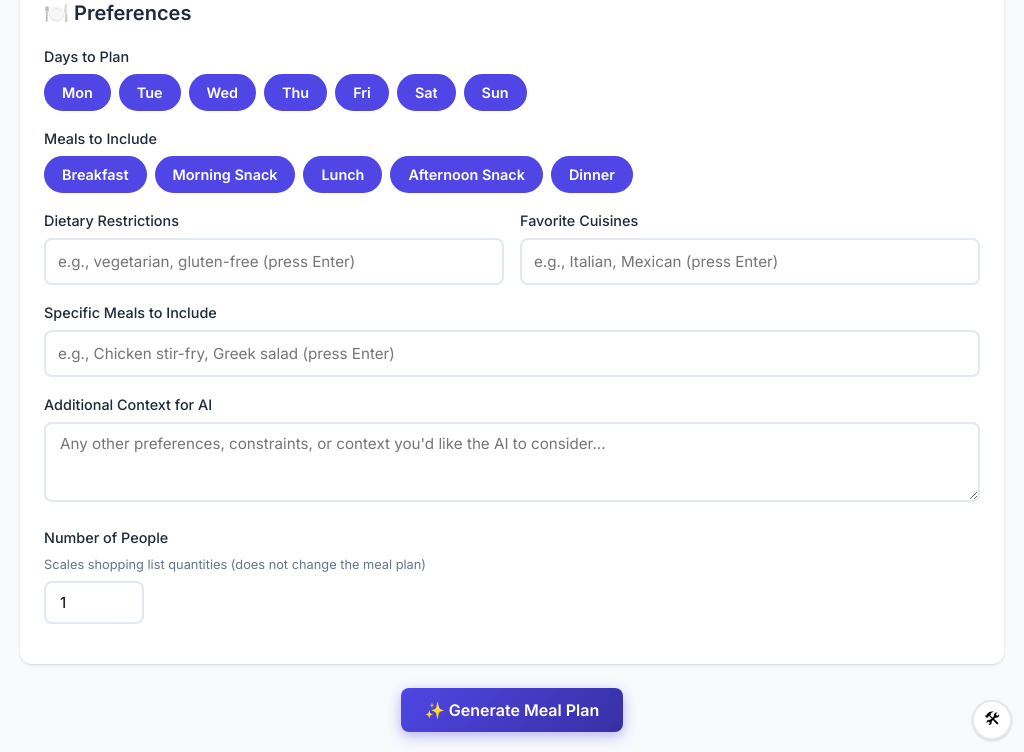
Test case: App › displays meal plan after successful generation
The image size is (1024, 752).
(page scrolled)
Step 1. Click the button "✨ Generate Meal Plan" → (512, 710), box 401,688 -> 623,732
(page scrolled)
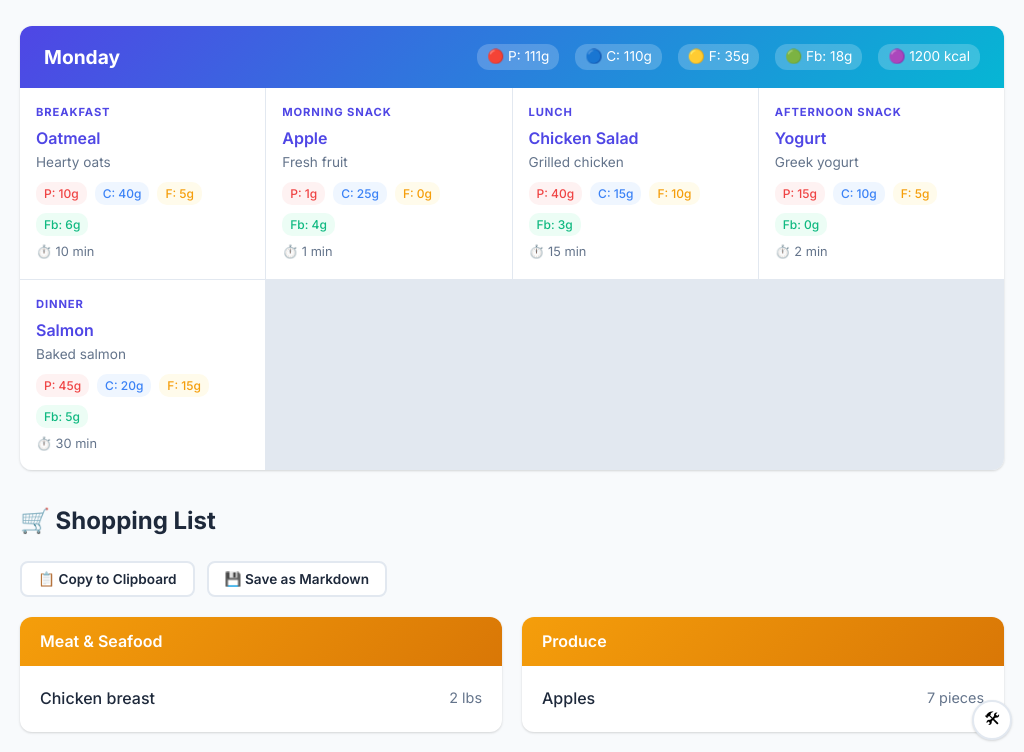
Now the heading "Monday" is shown, box 44,42 -> 120,72
Now the button "Oatmeal" is shown, box 36,128 -> 100,148
Now the button "Chicken Salad" is shown, box 528,128 -> 639,148
